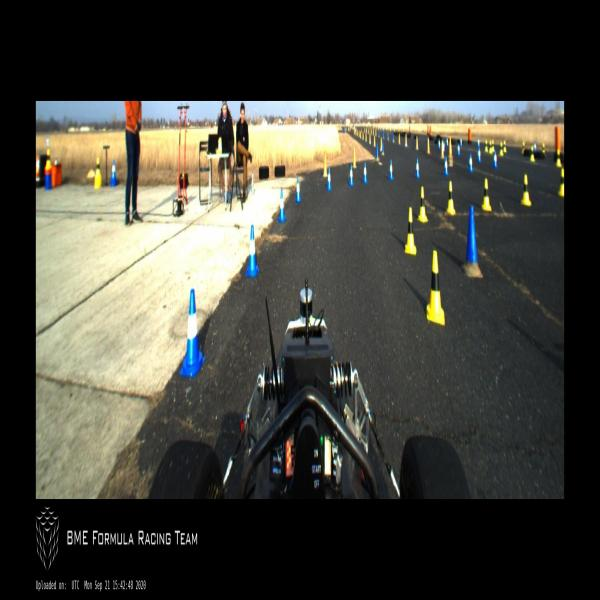blue_cone: (180, 290, 206, 376), (246, 225, 259, 277), (278, 189, 286, 222), (296, 176, 301, 202), (349, 164, 354, 186), (327, 168, 332, 190), (362, 162, 367, 183), (415, 158, 420, 178), (468, 153, 473, 172), (111, 161, 116, 180), (389, 160, 394, 179), (493, 151, 498, 168), (444, 156, 448, 175), (477, 147, 481, 162), (457, 143, 460, 156), (438, 138, 441, 150), (477, 139, 480, 149), (446, 137, 448, 146), (460, 138, 462, 147), (534, 143, 536, 152)
unknown_cone: (462, 206, 482, 277), (375, 142, 379, 162), (352, 147, 356, 167), (426, 138, 430, 154), (449, 137, 452, 158), (415, 136, 419, 151), (441, 140, 444, 158), (404, 134, 408, 147), (398, 133, 401, 145), (382, 140, 384, 155)
yellow_cone: (427, 251, 444, 324), (405, 208, 416, 255), (418, 187, 428, 221), (521, 175, 531, 205), (482, 179, 491, 210), (447, 182, 455, 215), (559, 170, 564, 195), (95, 158, 101, 177), (46, 150, 51, 168), (556, 150, 561, 167), (530, 146, 535, 161), (500, 142, 503, 156), (485, 139, 488, 152), (490, 141, 492, 153), (522, 142, 524, 154), (504, 141, 506, 152), (492, 140, 494, 151)
